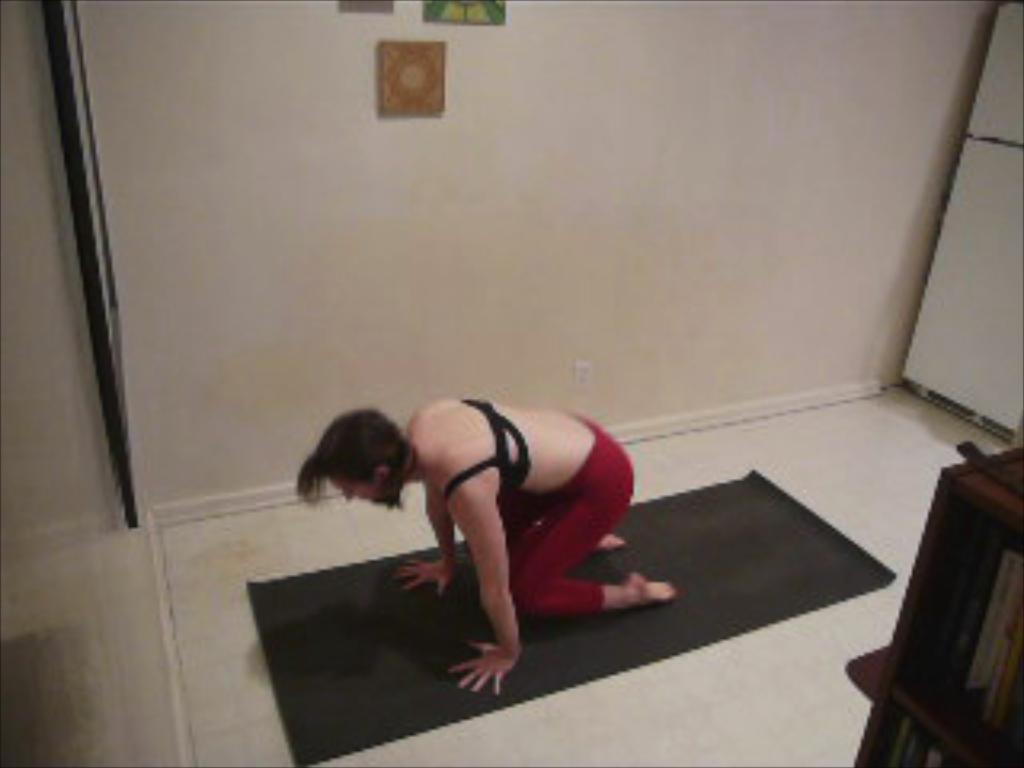Person: (295, 398, 675, 696)
